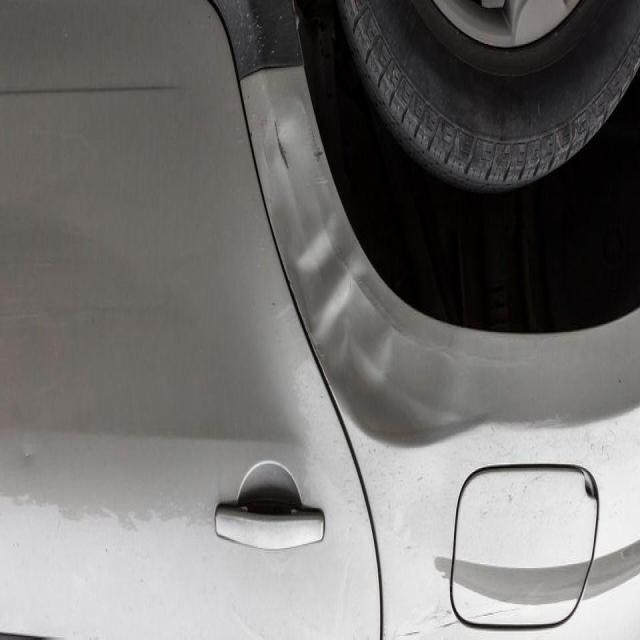dent: (244, 92, 426, 524)
